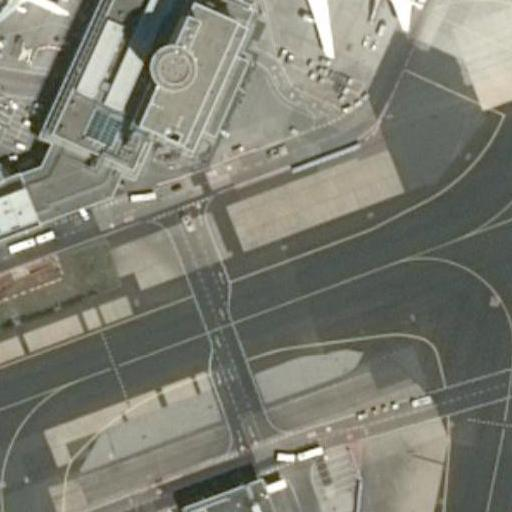Aircraft: (231, 0, 431, 58), (0, 0, 79, 41)
